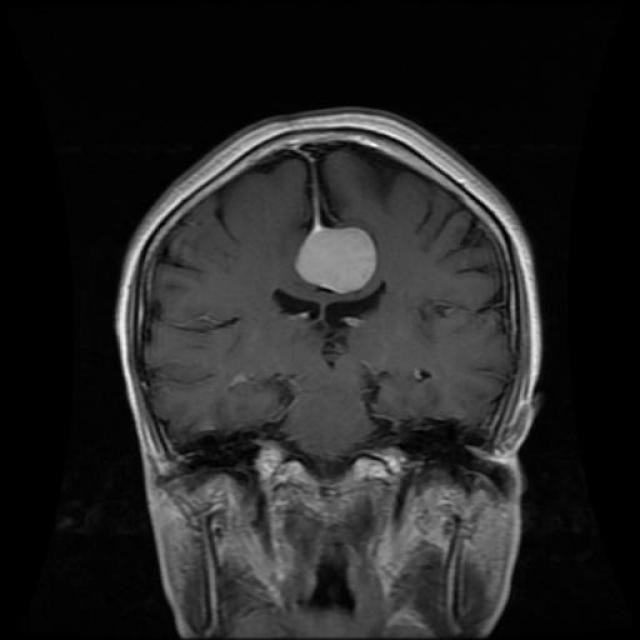Brain-Tumor: (286, 208, 394, 299)
